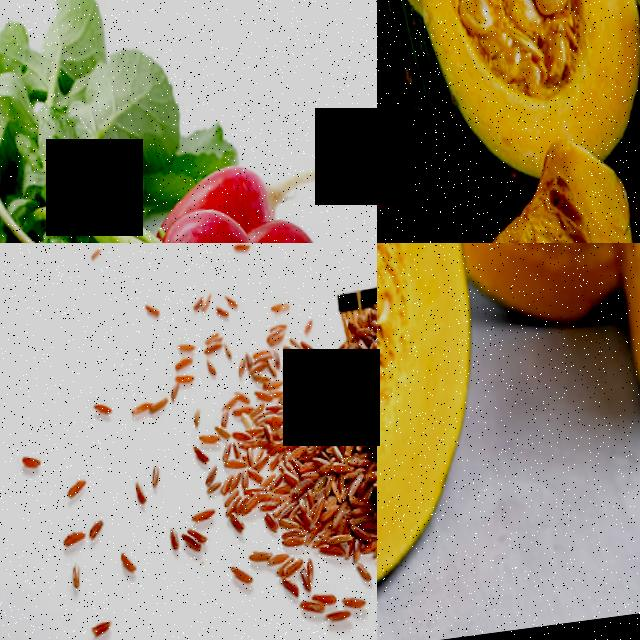pumpkin: (377, 0, 638, 190), (377, 243, 487, 623), (433, 243, 640, 429), (377, 149, 639, 243)
radishes: (132, 142, 330, 243)
red rice: (225, 355, 360, 569), (340, 296, 377, 458)
